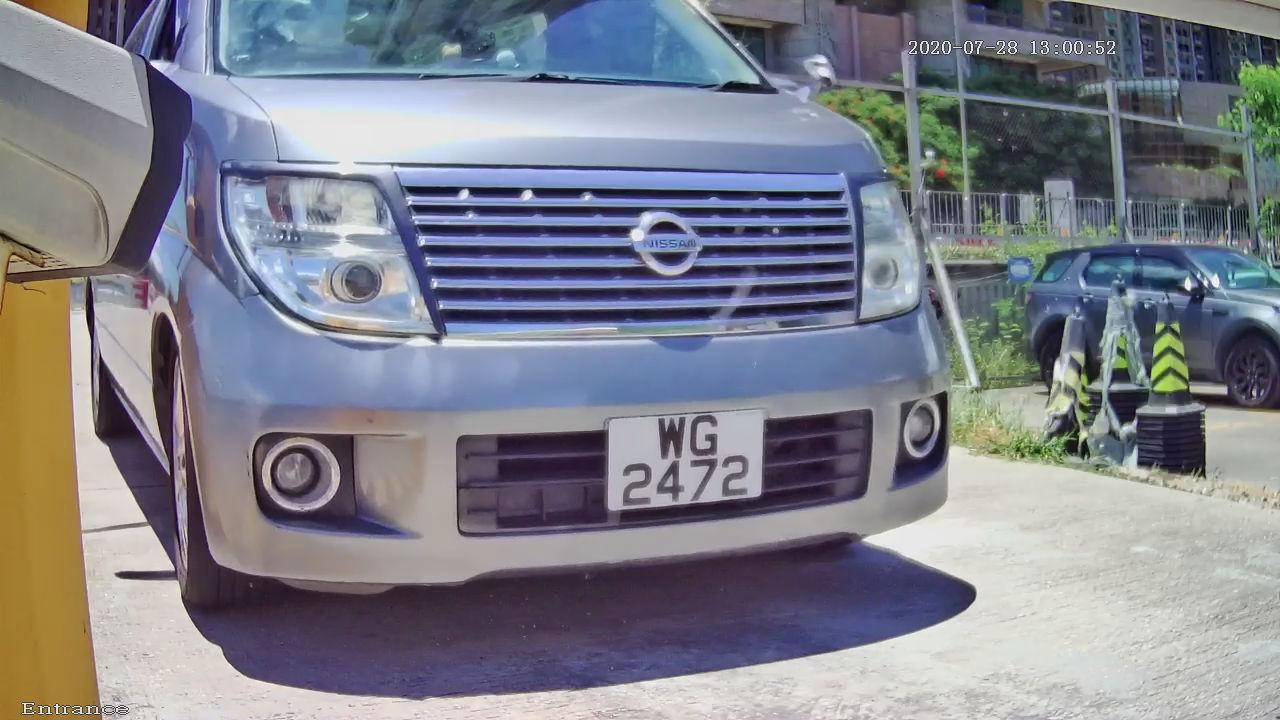privatecar: (18, 4, 1098, 695)
